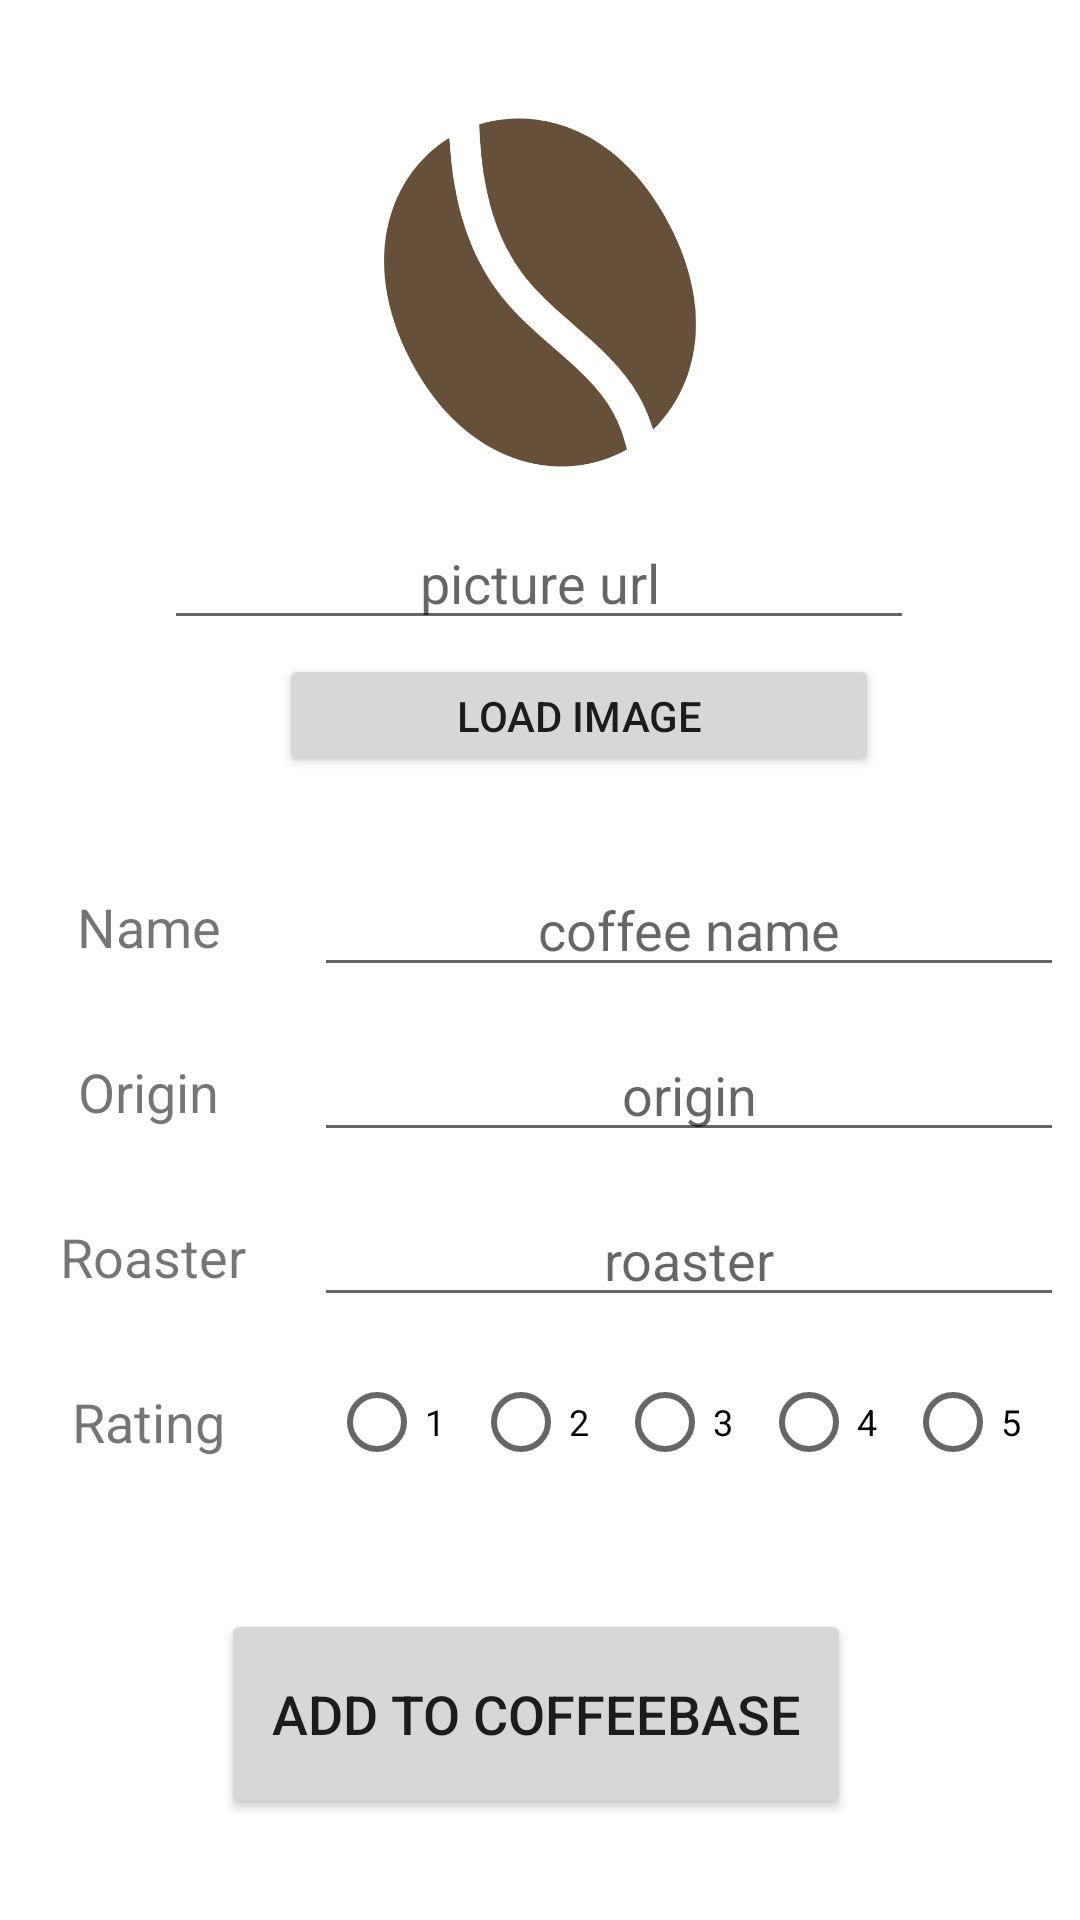

Icon click points for this 1080 x 1920 phone screenshot, format (x=x, y=y):
coffeebean: (x=540, y=292)
